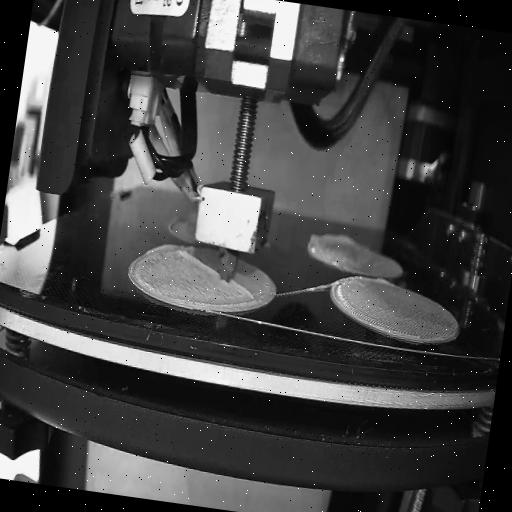over_extrusion: (176, 242, 262, 300), (302, 228, 360, 258), (143, 238, 178, 258), (166, 212, 179, 236), (372, 275, 394, 287)
